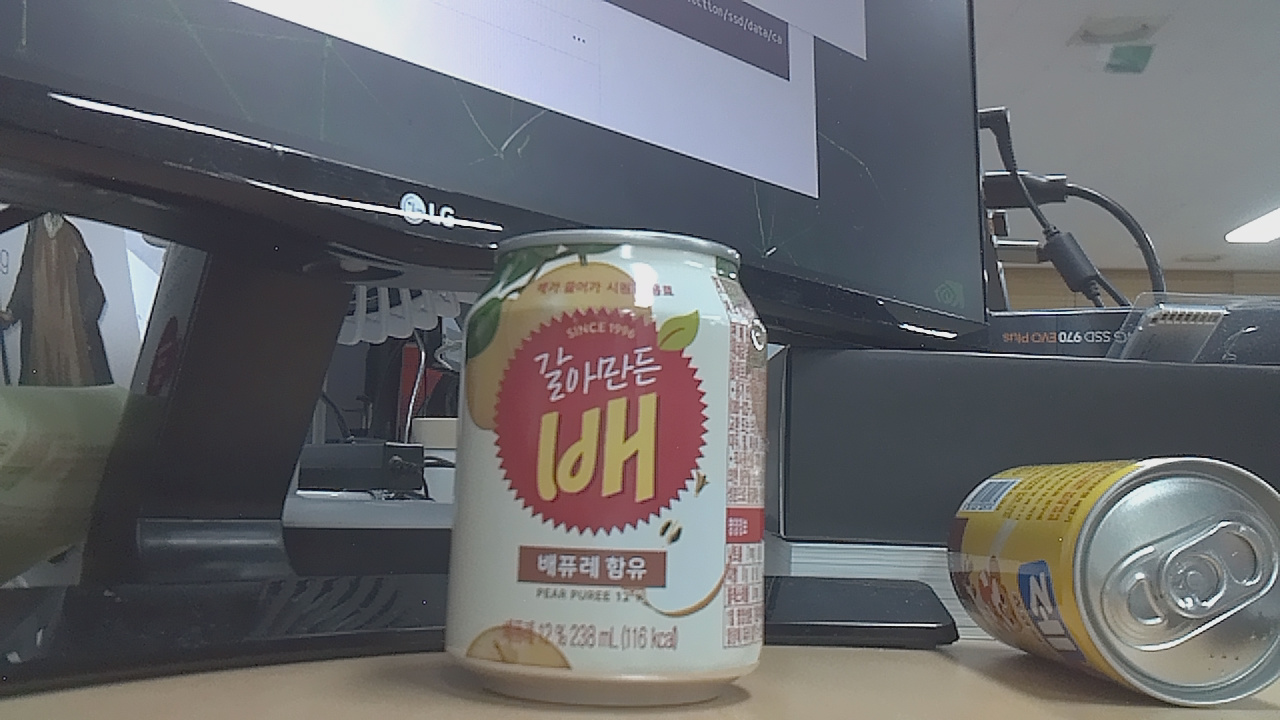IdH (pear juice): (438, 196, 783, 720)
jetty: (932, 459, 1280, 717)
